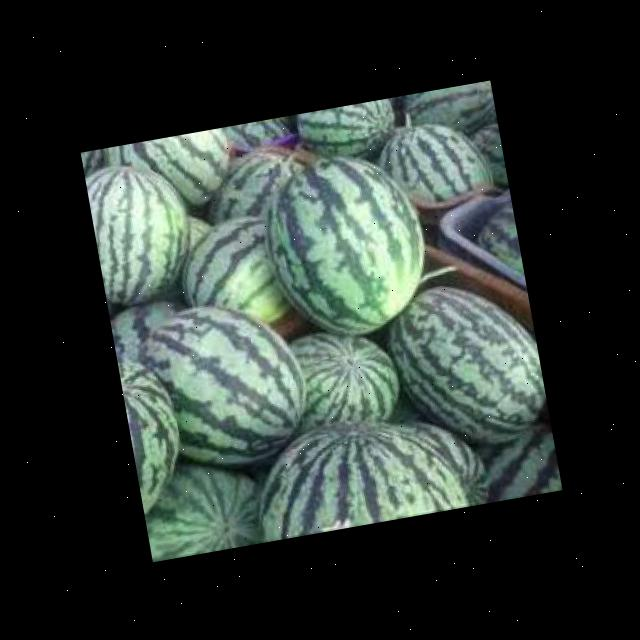watermelon: (252, 138, 439, 348), (126, 288, 316, 480), (238, 400, 491, 542), (374, 268, 550, 460), (368, 111, 504, 253), (82, 153, 202, 310), (170, 207, 296, 337), (136, 448, 270, 560), (284, 317, 404, 437), (100, 125, 237, 222), (114, 344, 190, 514), (194, 144, 310, 228), (292, 96, 402, 176), (477, 419, 561, 502), (398, 79, 498, 146), (106, 293, 194, 361), (468, 199, 524, 282), (218, 114, 299, 156), (467, 122, 507, 190)
